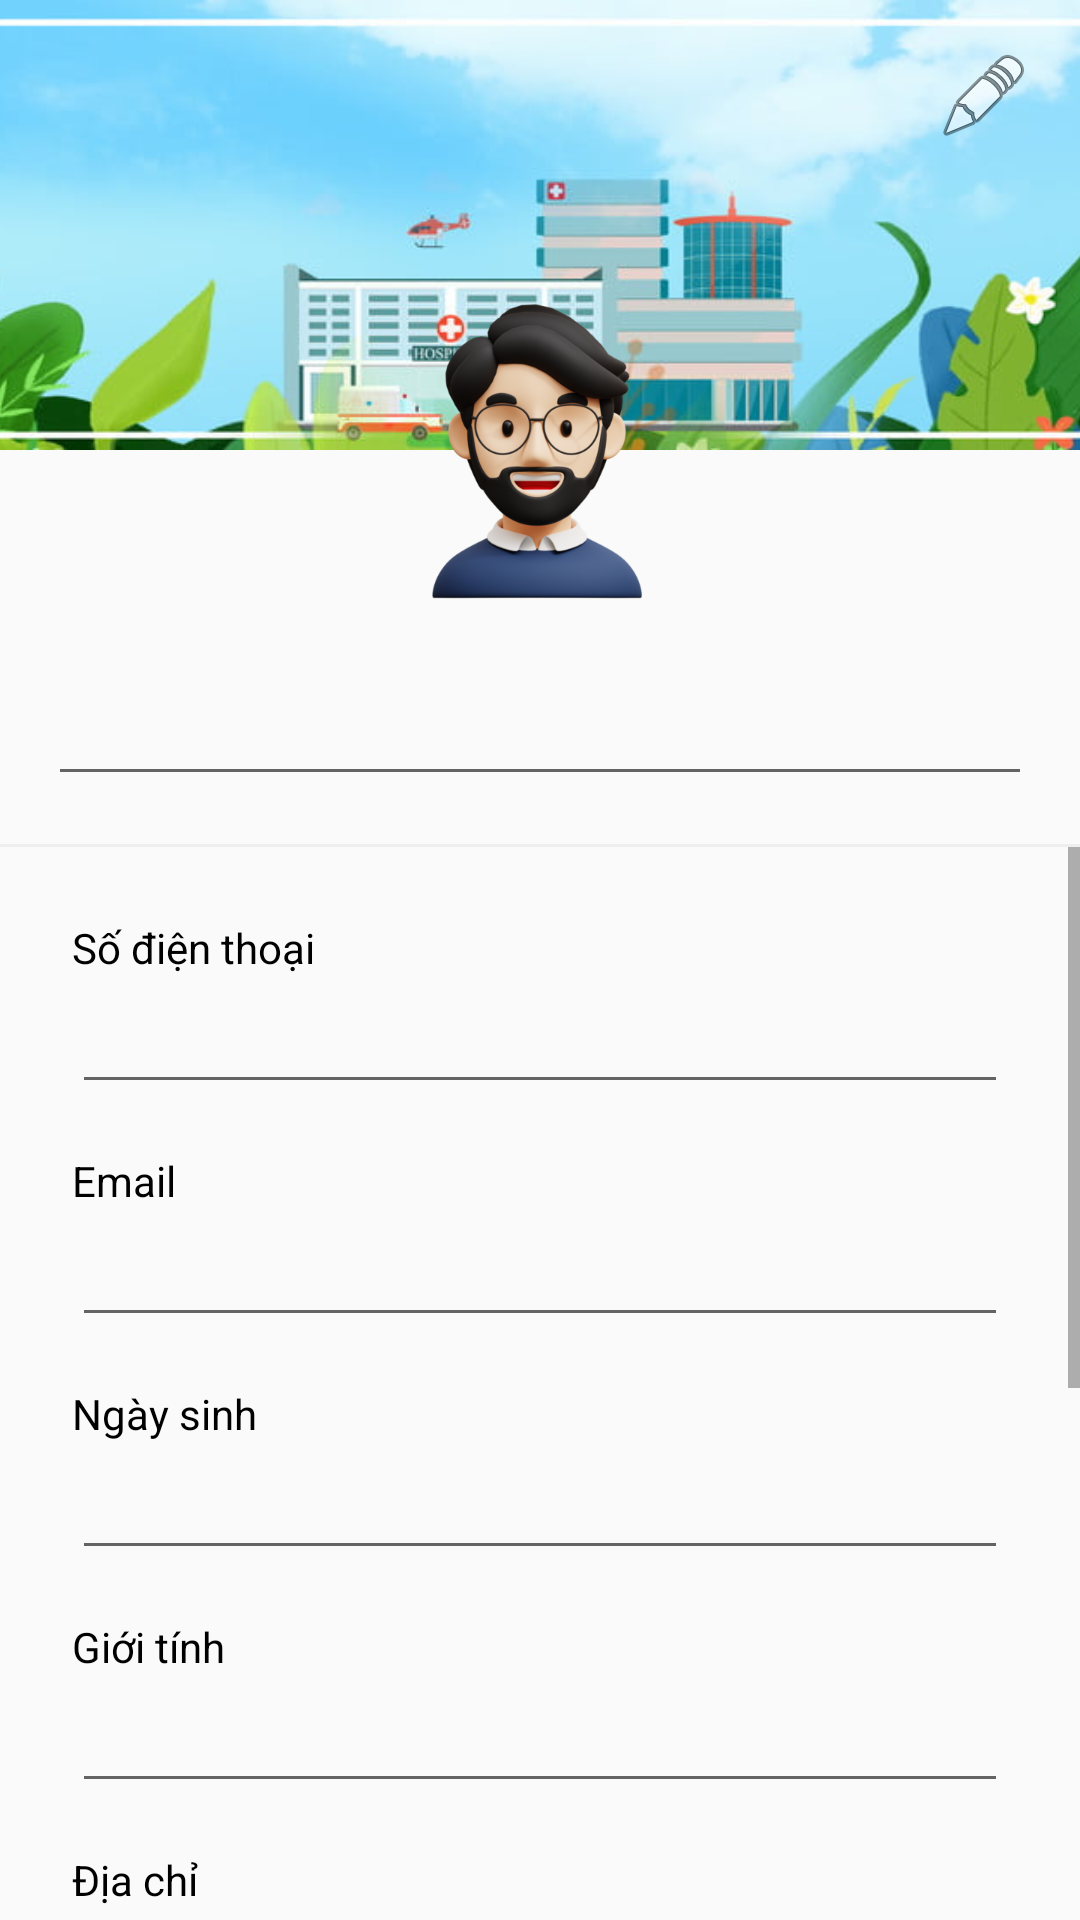

Named icons in this screenshot (1080x1920) and their centers, point (x, y):
avt: point (540, 450)
edit: point (984, 96)
